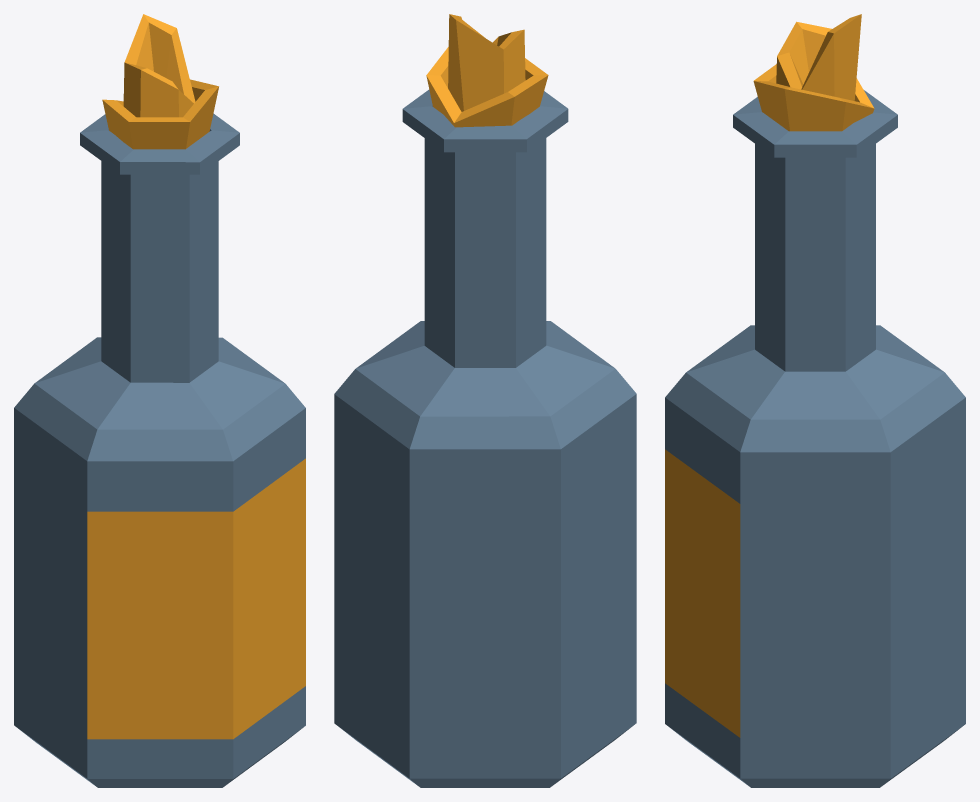
Rendered from SM_Bottle_Alchemy_Urine_Empty.fbx.
3 renders of one model, left to right at view 1: azimuth 30°, elevation 25°; view 2: azimuth 150°, elevation 25°; view 3: azimuth 270°, elevation 25°, orthographic. The views are drawn at different scales.
Parts seen in each view (by area): view 1: bottle-alchemy-urine-empty; view 2: bottle-alchemy-urine-empty; view 3: bottle-alchemy-urine-empty.
Part boxes in pixels (<box>): bottle-alchemy-urine-empty: <box>14,14,305,787</box>; bottle-alchemy-urine-empty: <box>334,14,636,787</box>; bottle-alchemy-urine-empty: <box>665,14,965,787</box>.
Bounding box in the file's own units: 0.098 × 0.3043 × 0.1136.
